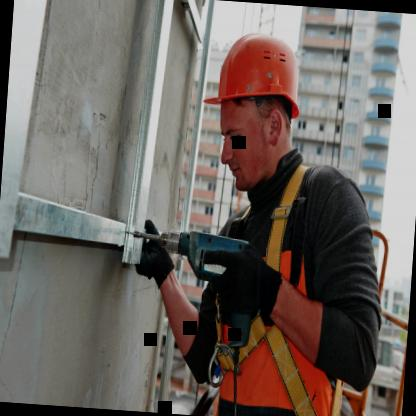helmet: (195, 12, 316, 206)
